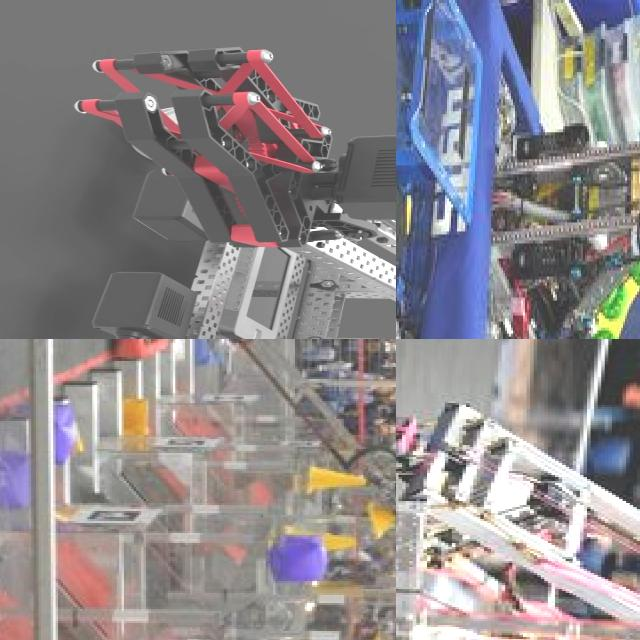FRC-Robots: (396, 0, 640, 339), (396, 341, 640, 640), (88, 339, 396, 514)
